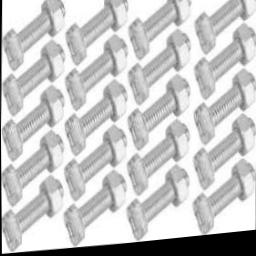Non-Corroded-Nut-and-Bolt: (126, 168, 189, 245), (64, 85, 129, 159), (64, 128, 128, 203), (127, 78, 191, 153), (127, 124, 190, 199), (2, 88, 65, 163), (1, 132, 64, 207), (194, 29, 256, 105), (194, 120, 256, 195), (3, 42, 65, 117), (129, 34, 191, 109), (65, 38, 127, 113), (64, 174, 126, 249), (1, 179, 64, 252), (193, 165, 254, 239), (4, 0, 66, 71), (65, 0, 129, 67), (130, 0, 192, 63), (195, 0, 256, 59)
